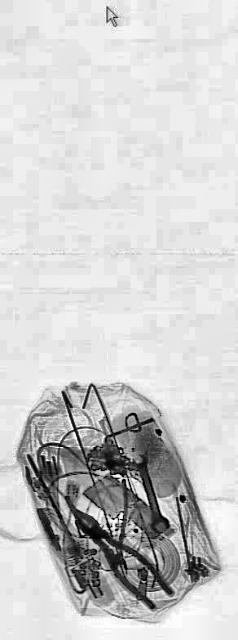Pliers: (63, 432, 141, 620), (72, 489, 174, 629)
Wrench: (132, 436, 168, 546)
